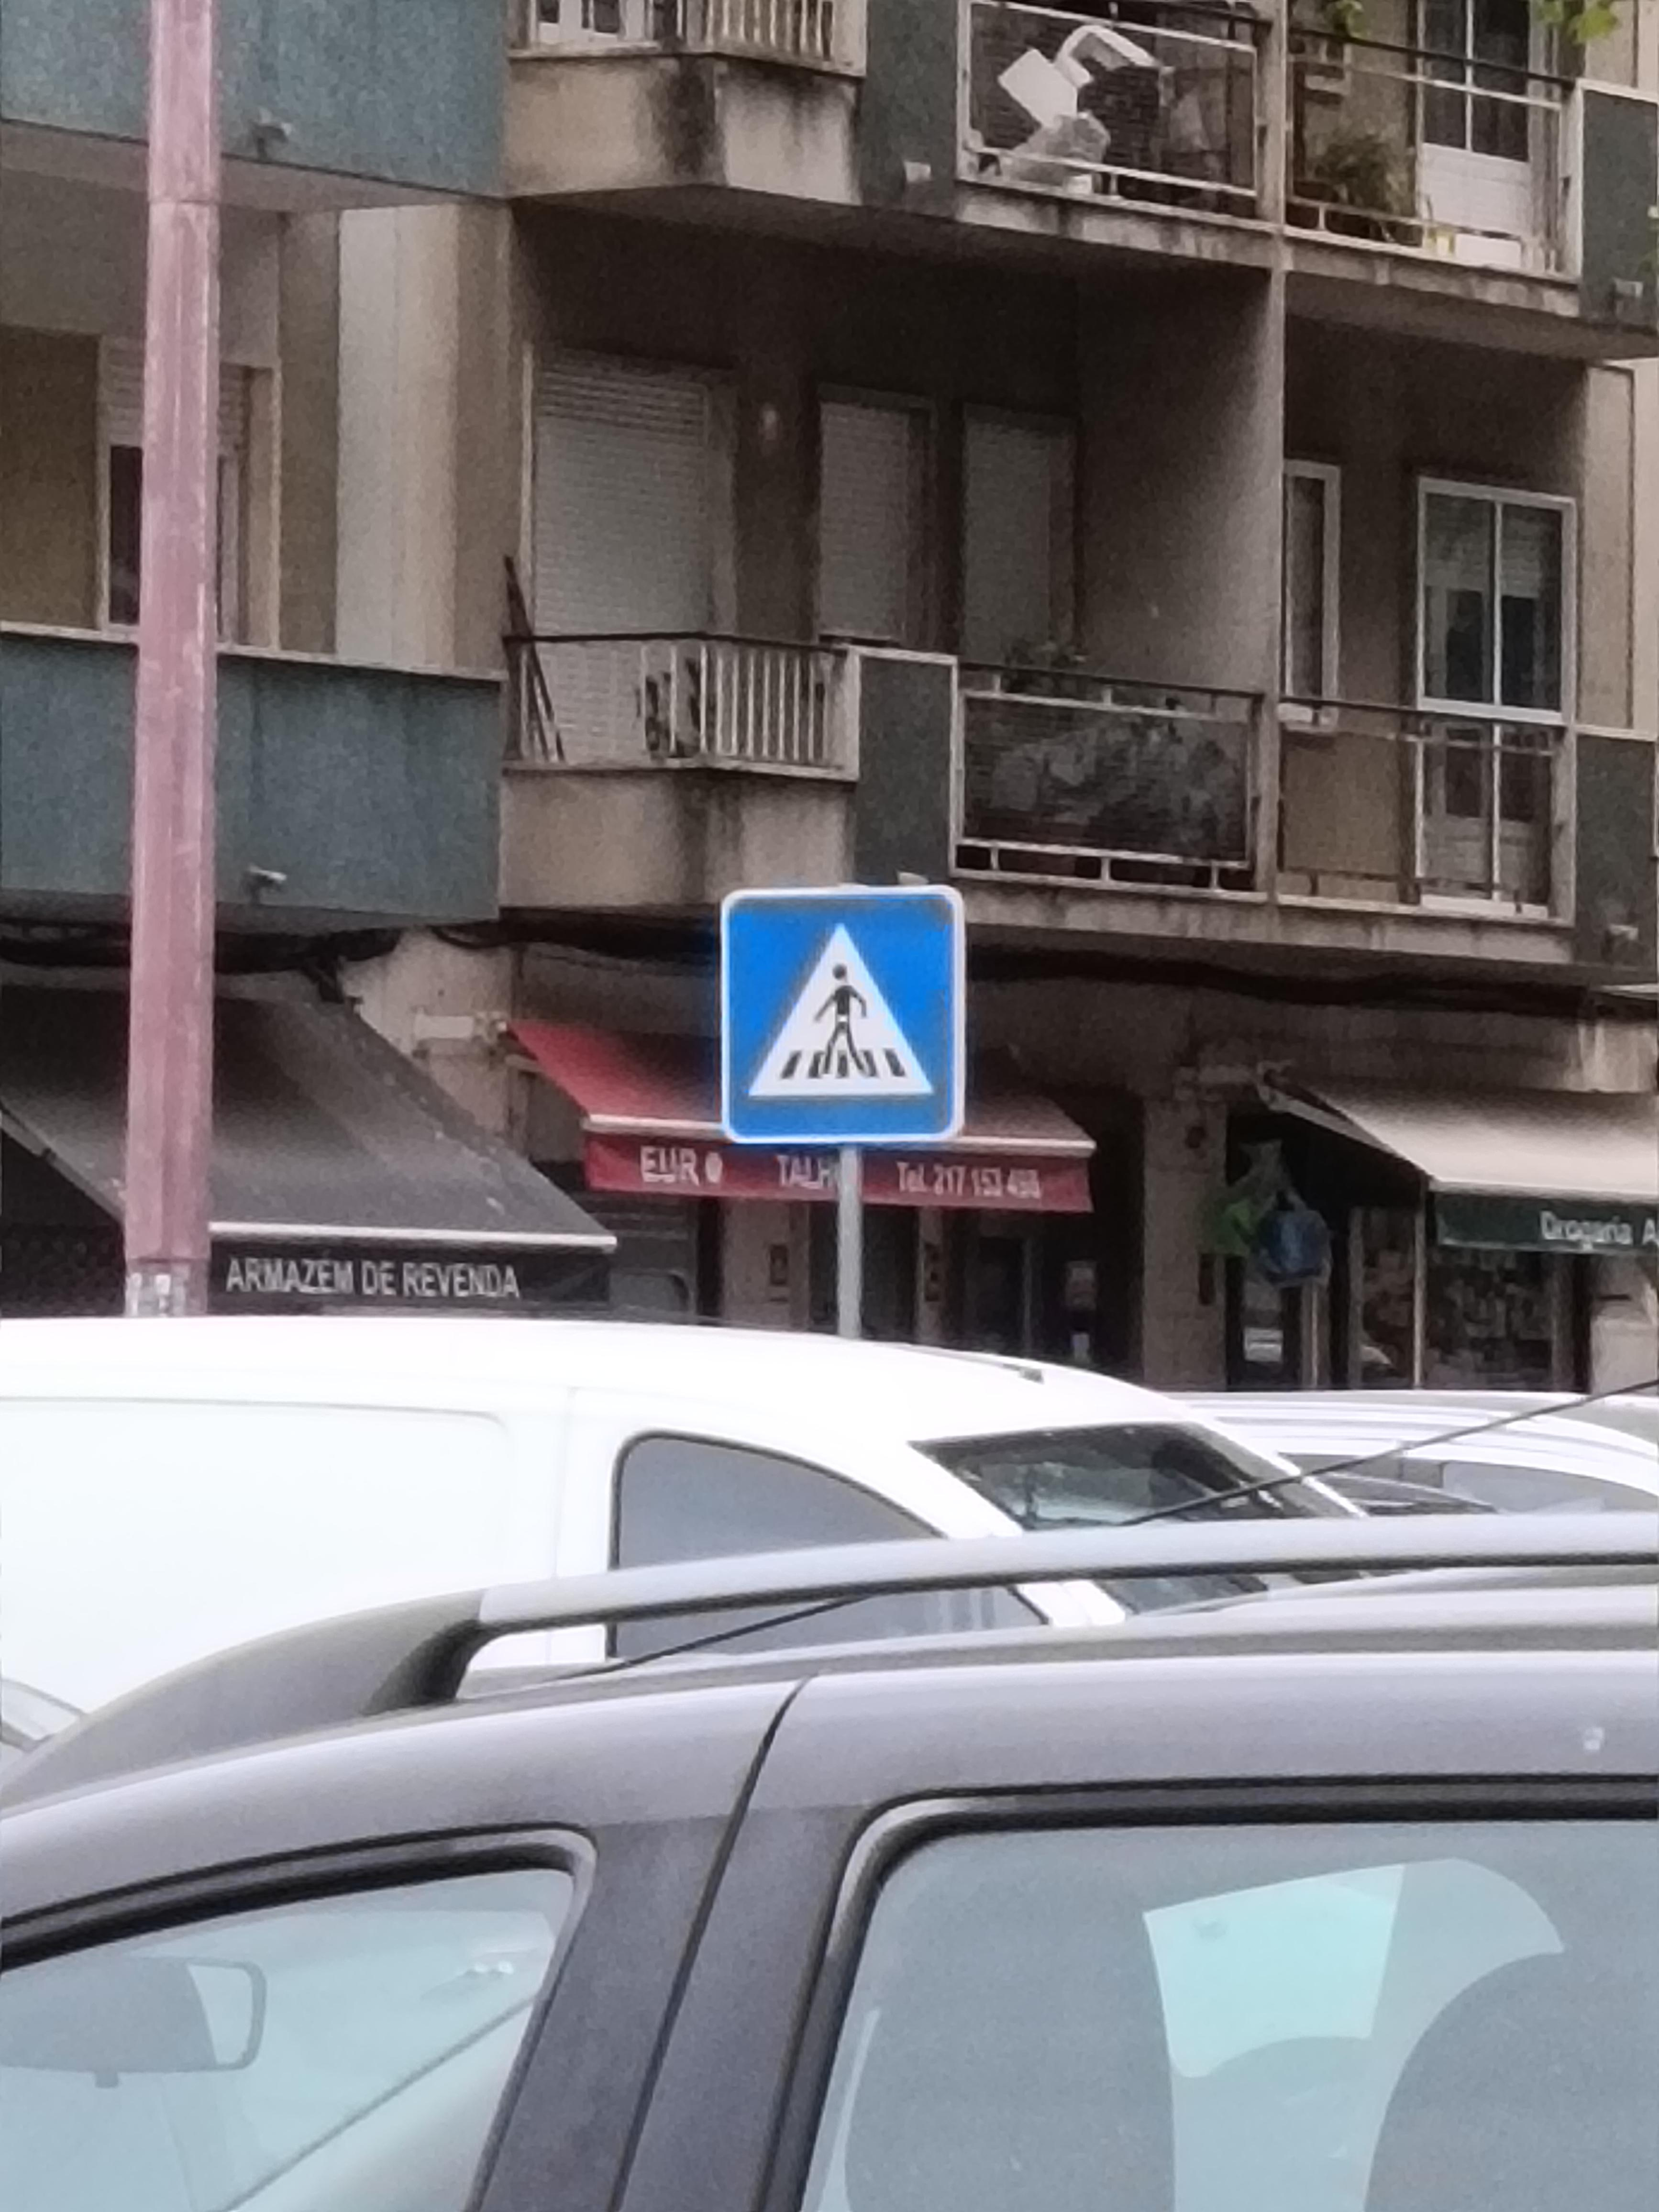passagem para peoes: (713, 846, 985, 1177)
